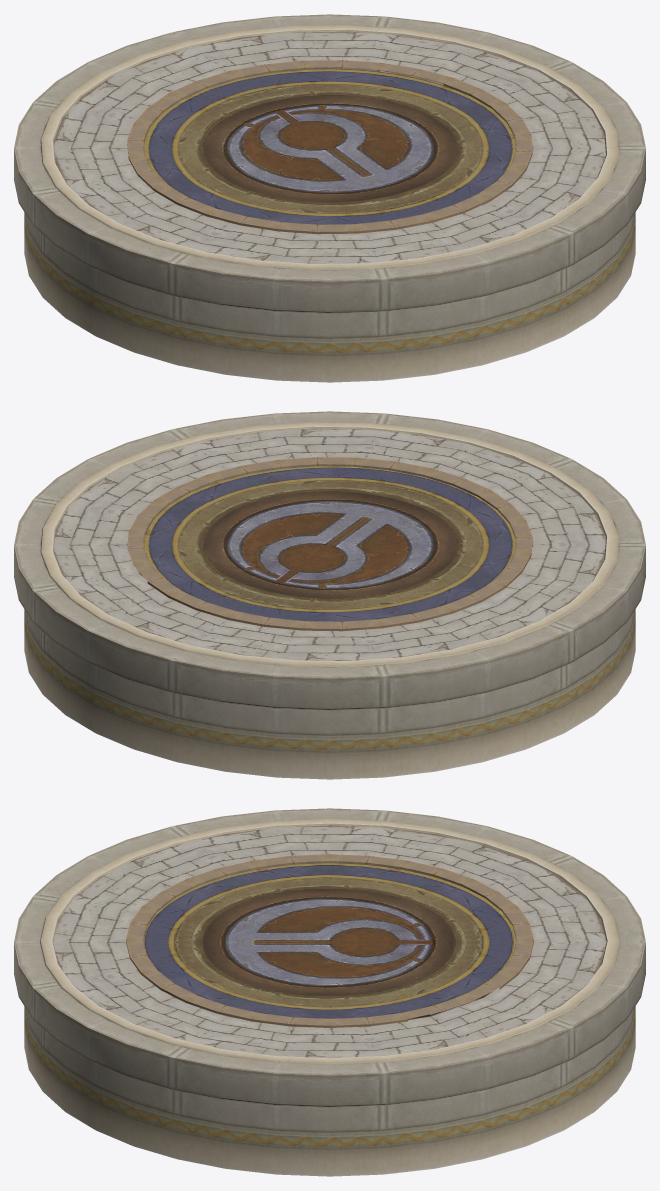
The model's file is hd_jinbifuben_001.FBX.
The picture shows the model from 3 angles, top to bottom: view 1: azimuth 30°, elevation 25°; view 2: azimuth 150°, elevation 25°; view 3: azimuth 270°, elevation 25°; orthographic projection.
Visible parts, largest first — view 1: hd_jinbifuben_001; view 2: hd_jinbifuben_001; view 3: hd_jinbifuben_001.
Boxes of the visible parts, <box> form: hd_jinbifuben_001: <box>14,14,645,382</box>; hd_jinbifuben_001: <box>14,411,645,779</box>; hd_jinbifuben_001: <box>14,808,645,1176</box>.
Size of the model in its own units: 3247 by 609 by 3247.
1 material, 1 textured.
